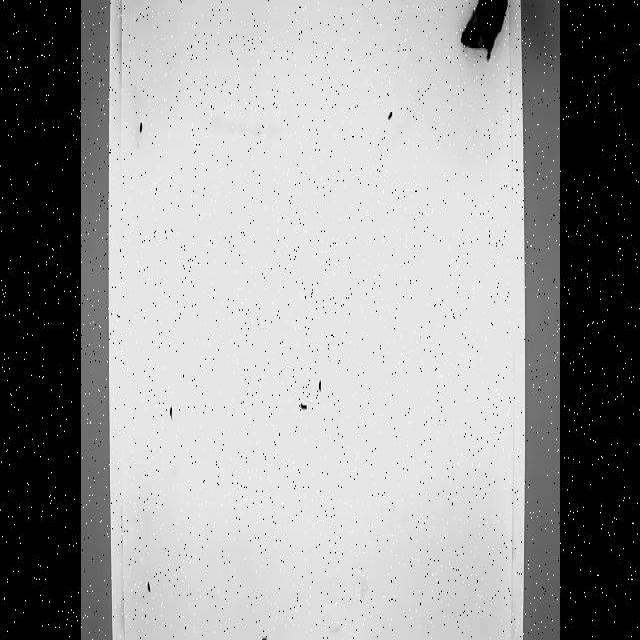rat: (463, 4, 509, 59)
